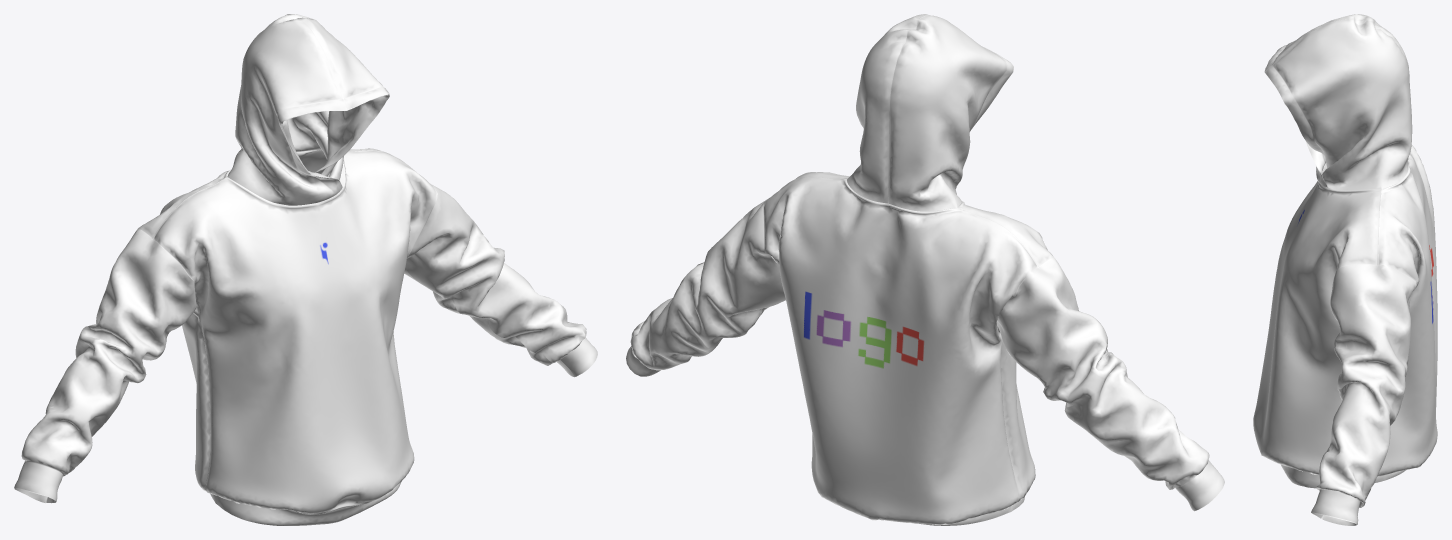
3 renders of one model, left to right at view 1: azimuth 30°, elevation 25°; view 2: azimuth 150°, elevation 25°; view 3: azimuth 270°, elevation 25°, orthographic. The views are drawn at different scales.
Visible parts, largest first — view 1: cloth_parent.001_0; view 2: cloth_parent.001_0; view 3: cloth_parent.001_0.
Part boxes in pixels (x1,y1,x2,y2): cloth_parent.001_0: (14,14,597,525); cloth_parent.001_0: (626,14,1224,525); cloth_parent.001_0: (1253,14,1437,525).
Size of the model in its own units: 4.42 by 3.5 by 1.32.
Materials: 1 (1 with a texture image).
